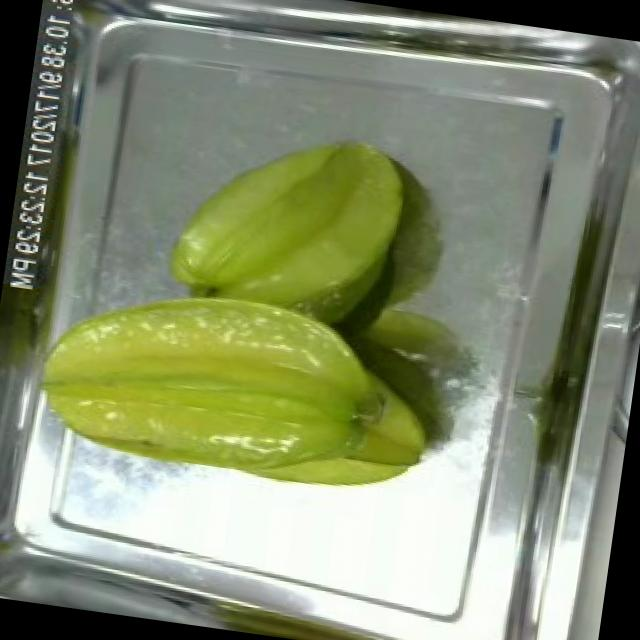fruit: (18, 266, 453, 526), (151, 105, 426, 346)
